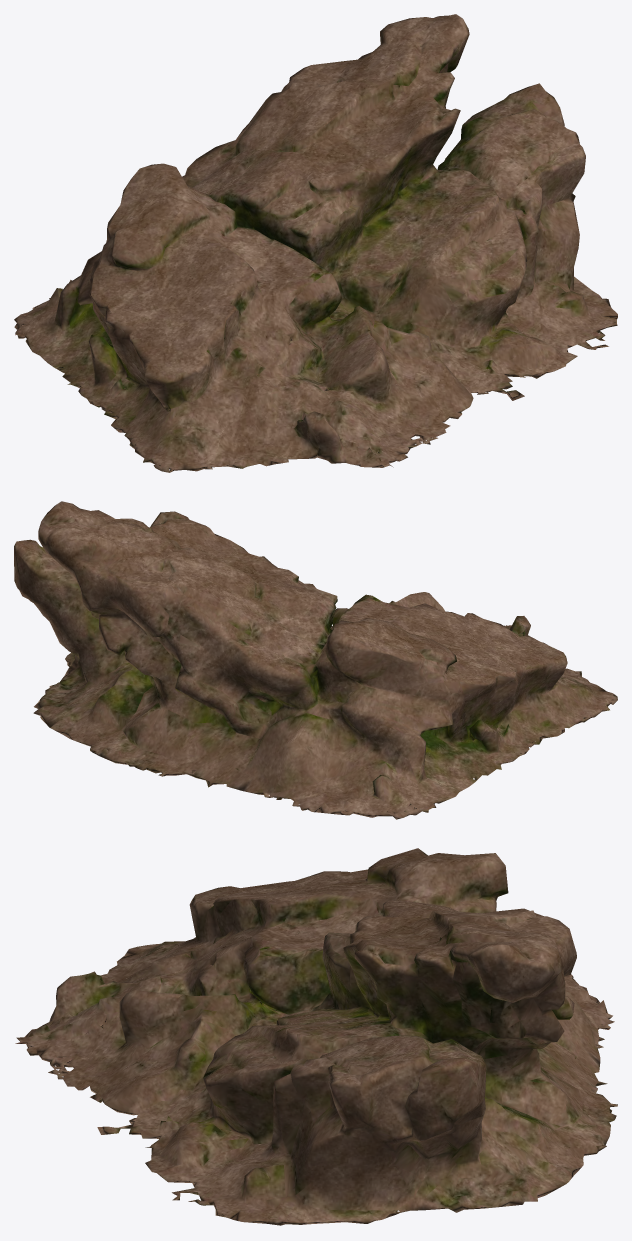
3 views of the same model, one above another, from view 1: azimuth 30°, elevation 25°; view 2: azimuth 150°, elevation 25°; view 3: azimuth 270°, elevation 25° (orthographic). The views are drawn at different scales.
Visible parts, largest first — view 1: rock_low_ready; view 2: rock_low_ready; view 3: rock_low_ready.
Boxes of the visible parts, x1,y1,x2,y2 form: rock_low_ready: (14, 14, 617, 472); rock_low_ready: (14, 501, 617, 819); rock_low_ready: (15, 848, 617, 1225).
Bounding box in the file's own units: 4.76 × 1.97 × 4.16.
1 material, 1 textured.
